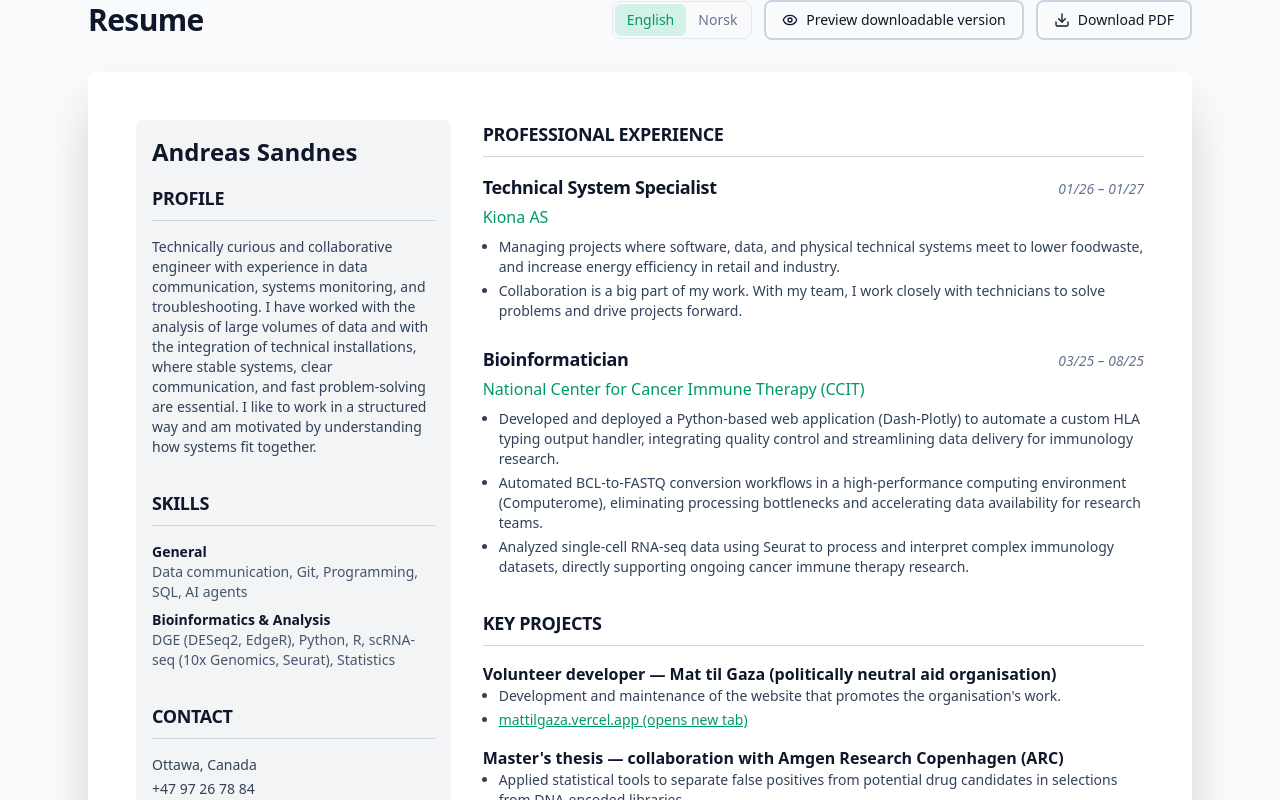
Test: ResumeView › opens the downloadable version in a preview modal
This screenshot has width=1280, height=800.
Click the button "Preview downloadable version" at (894,20), box [764,0,1024,40]
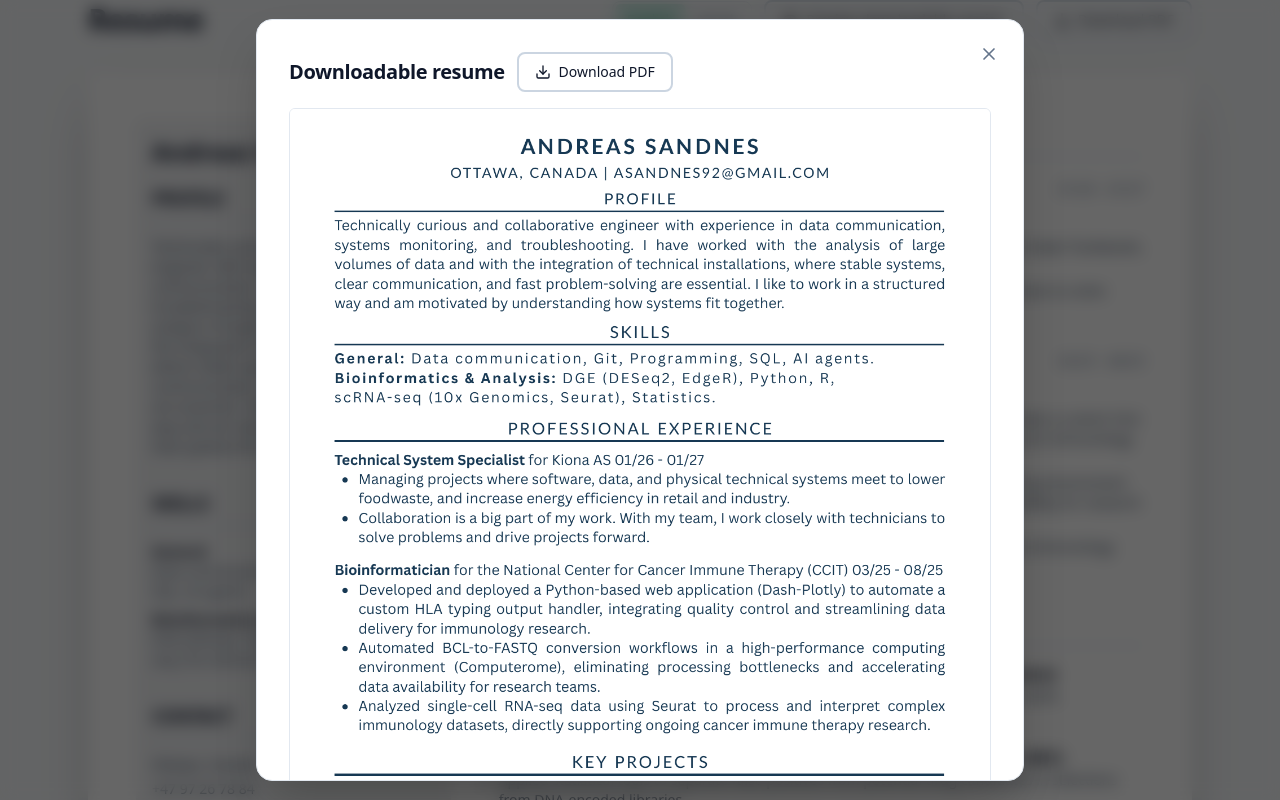
Check: the picture named "Downloadable resume" is shown, box [289,108,991,781]
